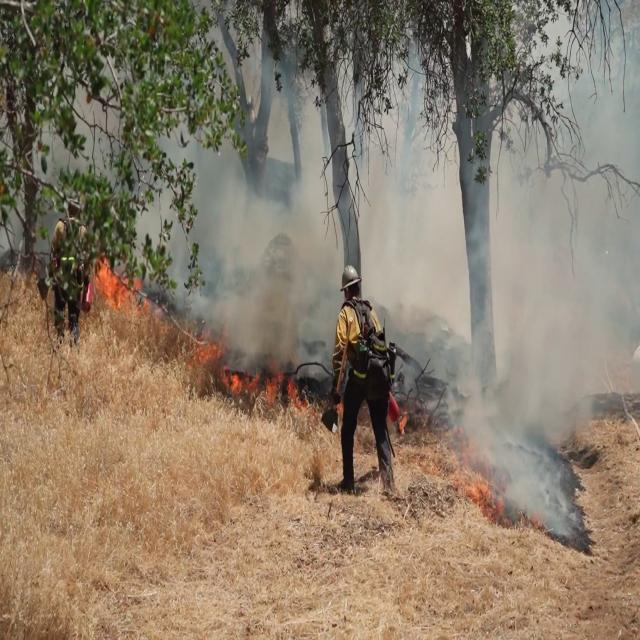Fire: (92, 260, 166, 327)
Smoke: (175, 43, 640, 363), (416, 41, 640, 530)
